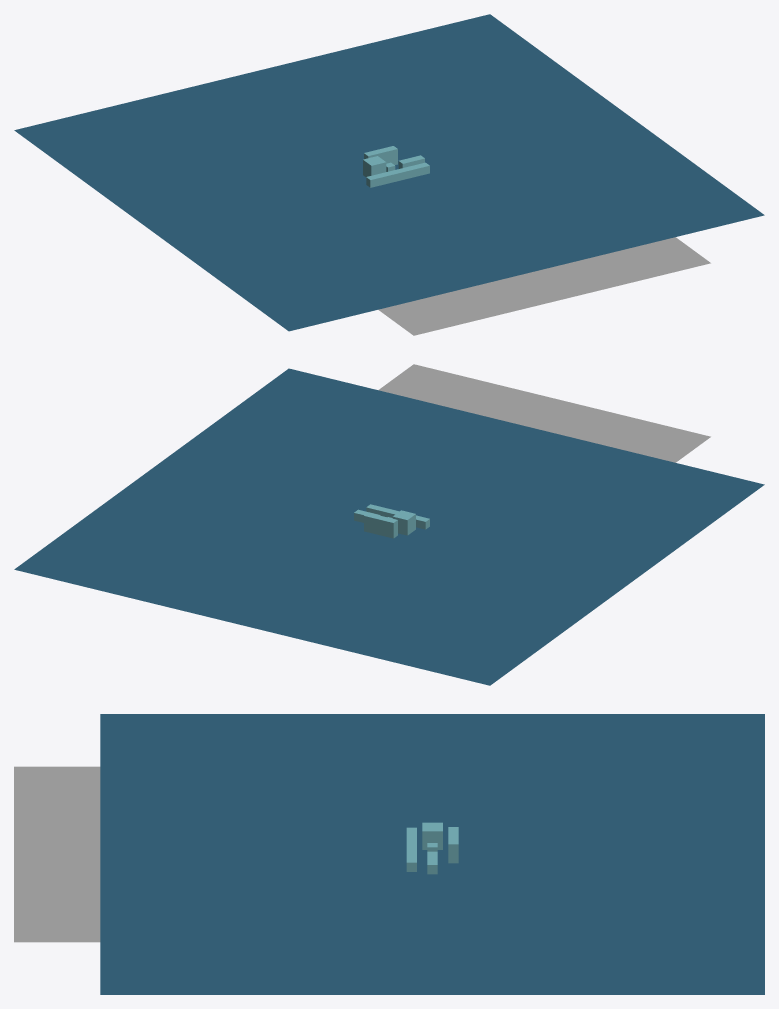
The model's file is environment.fbx.
The picture shows the model from 3 angles, top to bottom: view 1: azimuth 30°, elevation 25°; view 2: azimuth 150°, elevation 25°; view 3: azimuth 270°, elevation 25°; orthographic projection. The views are drawn at different scales.
Parts seen in each view (by area): view 1: floor64x64, activeRange40x30, platform8x1x1; view 2: floor64x64, activeRange40x30, platform4x2x1; view 3: floor64x64, activeRange40x30, platform2x2x2, platform8x1x1.
Boxes of the visible parts, box(x1,y1,x2,y2) form: floor64x64: box(14, 14, 764, 331); activeRange40x30: box(378, 237, 710, 335); platform8x1x1: box(366, 162, 429, 187); floor64x64: box(14, 368, 764, 685); activeRange40x30: box(378, 364, 710, 462); platform4x2x1: box(364, 512, 397, 538); floor64x64: box(100, 714, 764, 994); activeRange40x30: box(14, 766, 100, 942); platform2x2x2: box(422, 822, 442, 849); platform8x1x1: box(406, 827, 416, 871).
Bounding box in the file's own units: 6400 × 200 × 7230.
